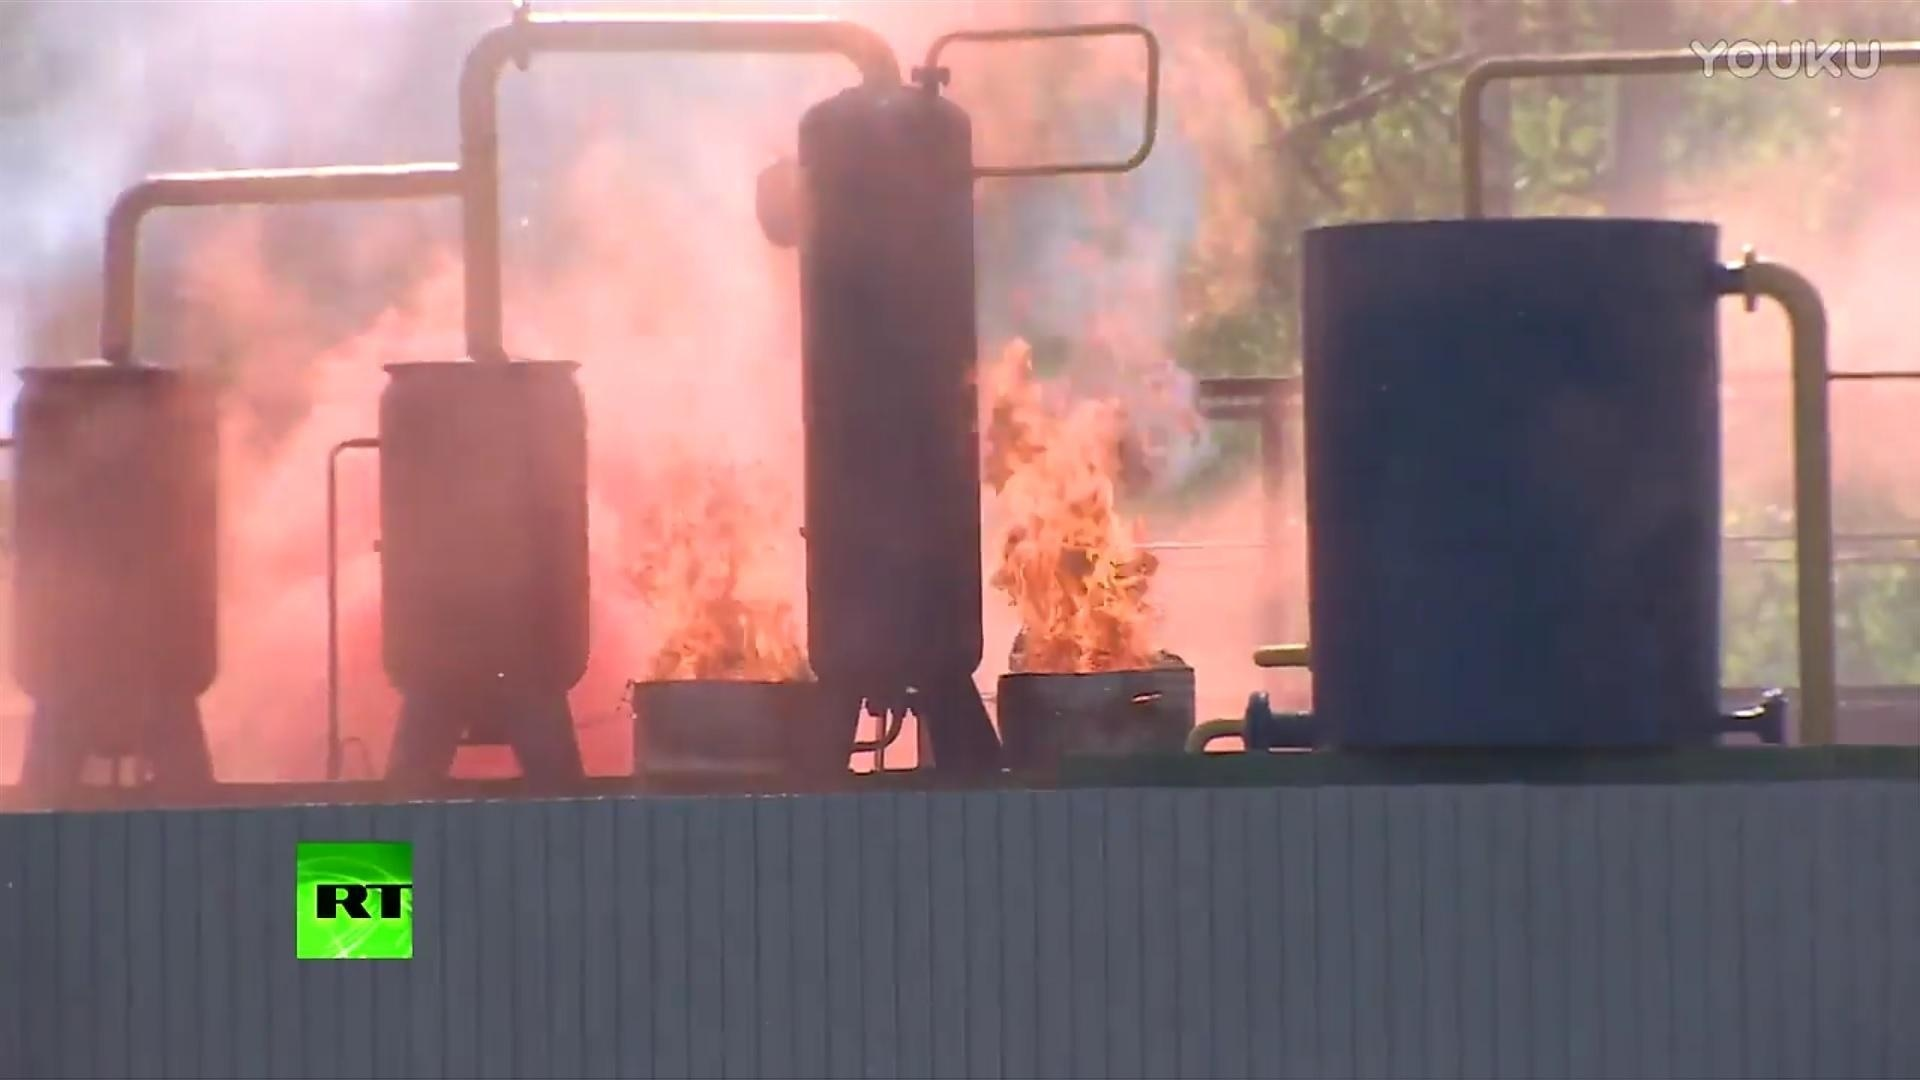fire: (978, 338, 1154, 674)
